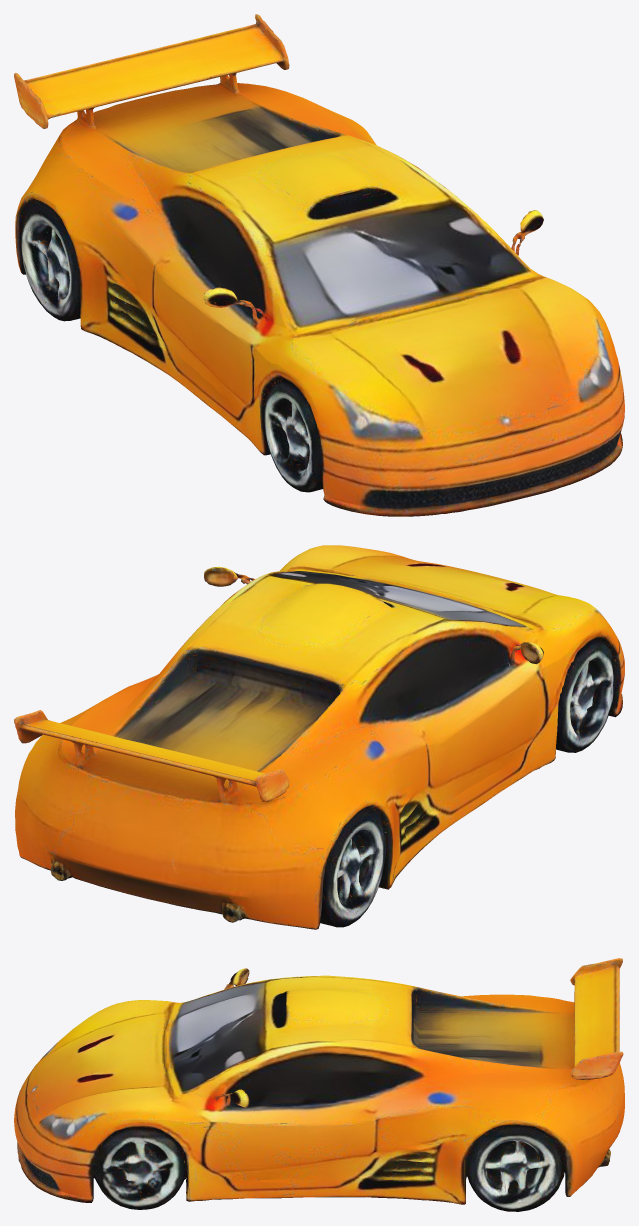
Rendered from car.glb.
3 views of the same model, one above another, from view 1: azimuth 30°, elevation 25°; view 2: azimuth 150°, elevation 25°; view 3: azimuth 270°, elevation 25° (orthographic). The views are drawn at different scales.
Visible parts, largest first — view 1: Mesh; view 2: Mesh; view 3: Mesh.
Part boxes in pixels (box(x1,y1,x2,y2)): Mesh: box(14, 14, 624, 516); Mesh: box(14, 545, 624, 929); Mesh: box(14, 958, 624, 1211).
Bounding box in the file's own units: 0.965 × 0.5396 × 1.9.
Materials: 1 (1 with a texture image).
